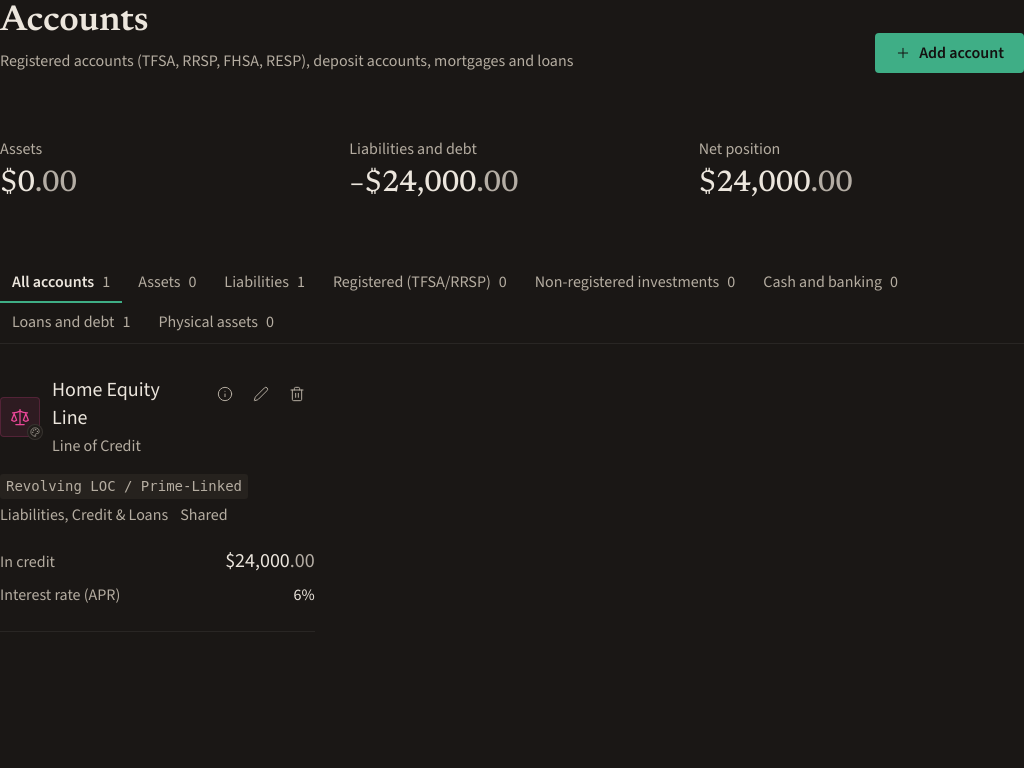
AccountsManagerView line of credit › has no term or original principal, and defaults to an interest-only minimum
The image size is (1024, 768).
Click the button named "Edit account".
click(261, 394)  # box [243,376,279,412]
(page scrolled)
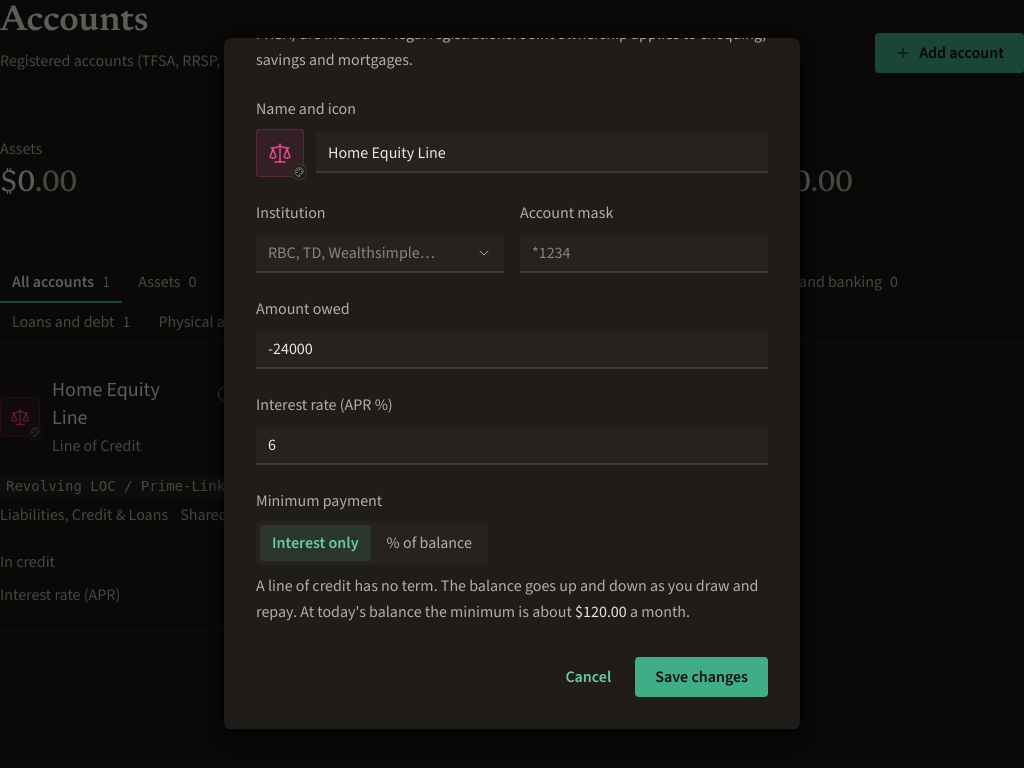
Check: the text "At today's balance the minimum is about" shows "120", box [575,601,627,622]
